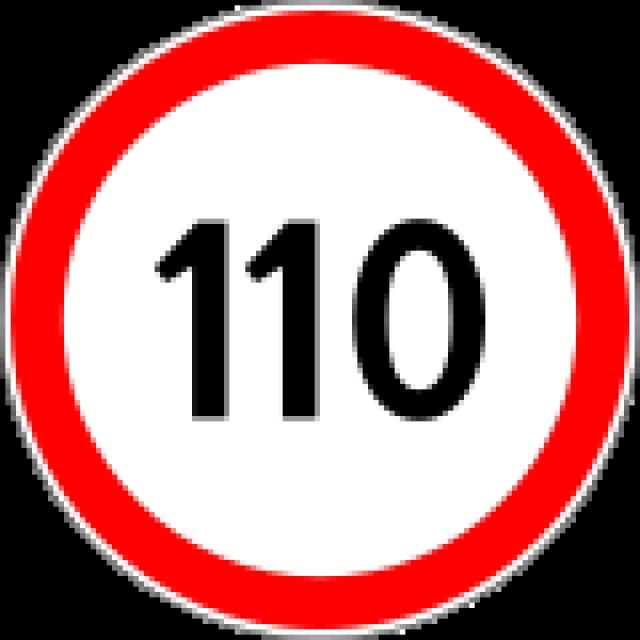Speed Limit -110-: (124, 202, 512, 457)
